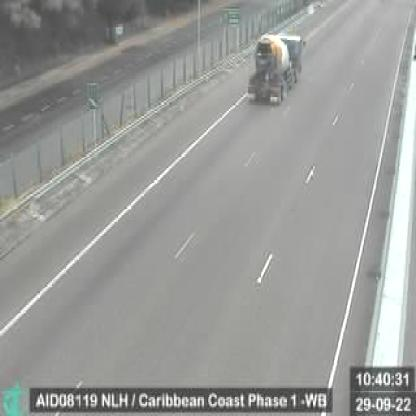Truck: (240, 32, 303, 122)
